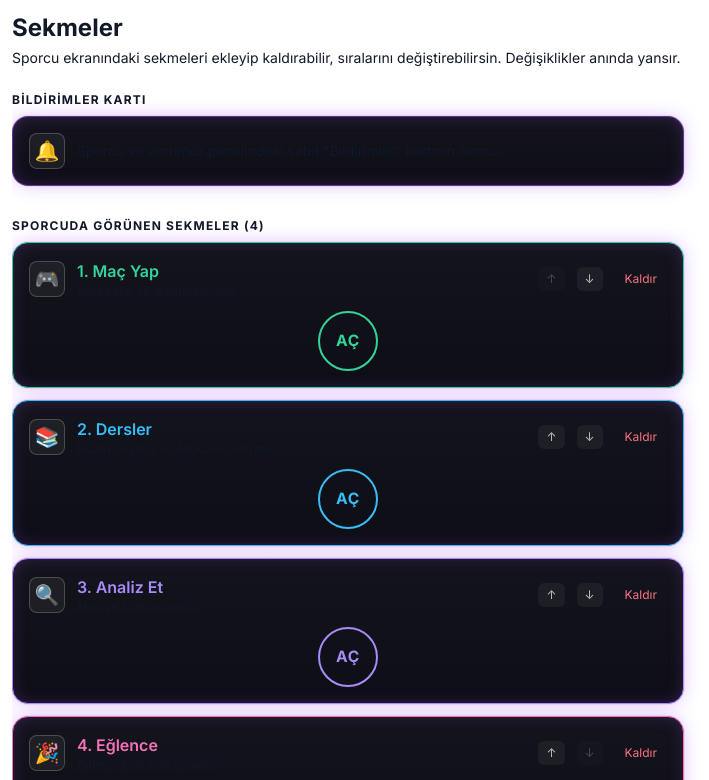
it: Admin Sekmeler — akordiyon › açık kartın düğmesi KAPAT olur ve aria-expanded true döner
Step 1. Click the button with aria-label "Dersler sekmesini aç" → [348, 499], box [318, 469, 378, 529]
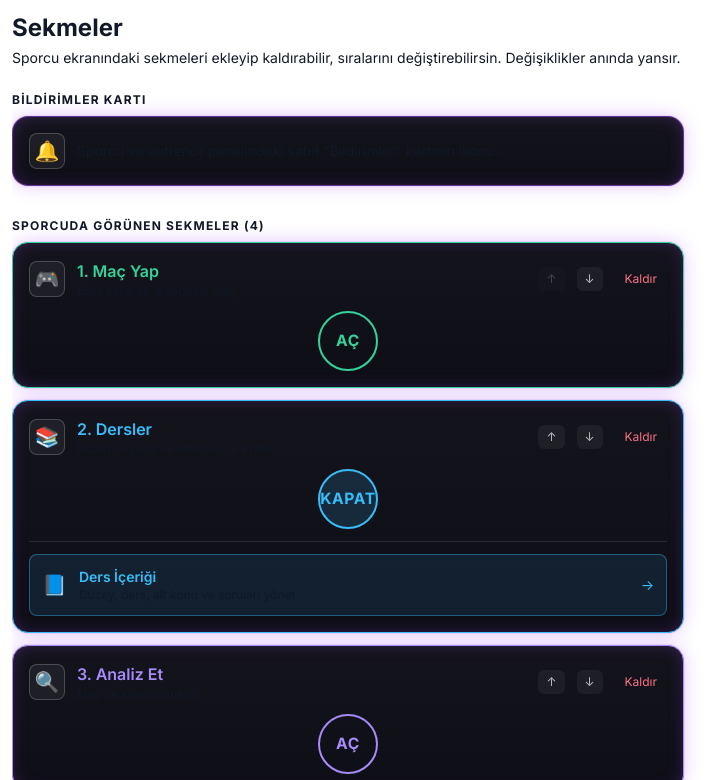
Expected: the button with aria-label "Dersler sekmesini kapat" reads "KAPAT", [318, 469, 378, 529]
Expected: the button with aria-label "Dersler sekmesini kapat" is expanded, [318, 469, 378, 529]
